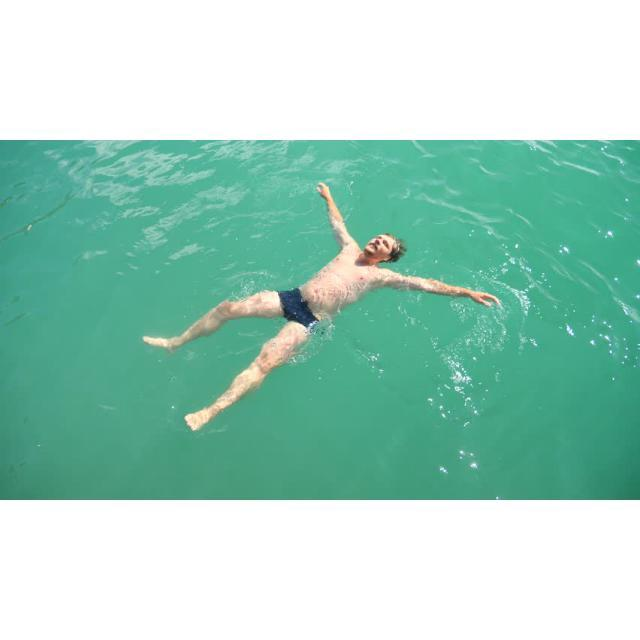human: (142, 182, 502, 432)
